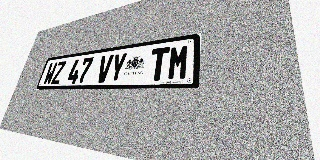4: (66, 59, 83, 84)
7: (76, 57, 94, 84)
M: (167, 44, 190, 80)
T: (148, 47, 170, 81)
V: (95, 54, 114, 83)
W: (42, 62, 58, 85)
Y: (108, 52, 128, 82)
Z: (51, 61, 66, 84)
